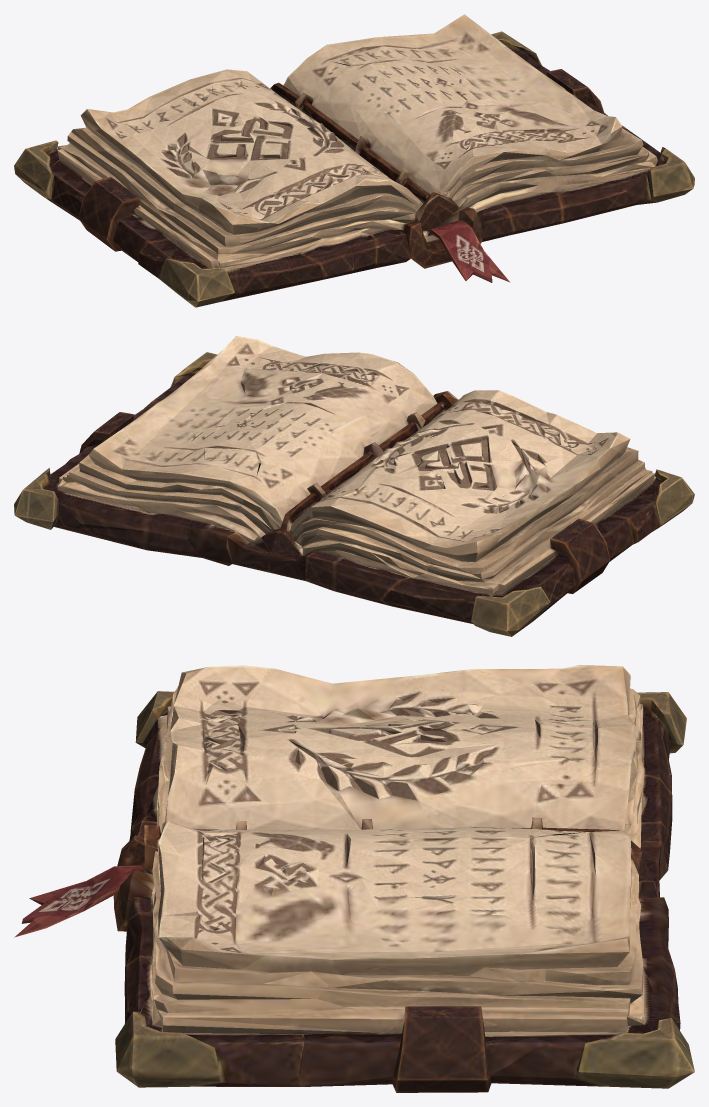
File: wedding-book.glb
The picture shows the model from 3 angles, top to bottom: view 1: azimuth 30°, elevation 25°; view 2: azimuth 150°, elevation 25°; view 3: azimuth 270°, elevation 25°; orthographic projection. The views are drawn at different scales.
Parts seen in each view (by area): view 1: output_unwrapped; view 2: output_unwrapped; view 3: output_unwrapped.
Part boxes in pixels (box(x1,y1,x2,y2)): output_unwrapped: box(14, 14, 694, 307); output_unwrapped: box(14, 336, 694, 636); output_unwrapped: box(14, 665, 694, 1092).
Bounding box in the file's own units: 1.52 × 0.25 × 1.21.
1 material, 1 textured.
